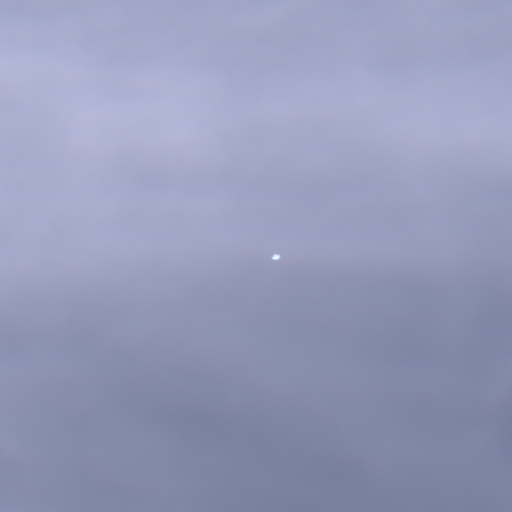Iceberg: (272, 254, 279, 259)
